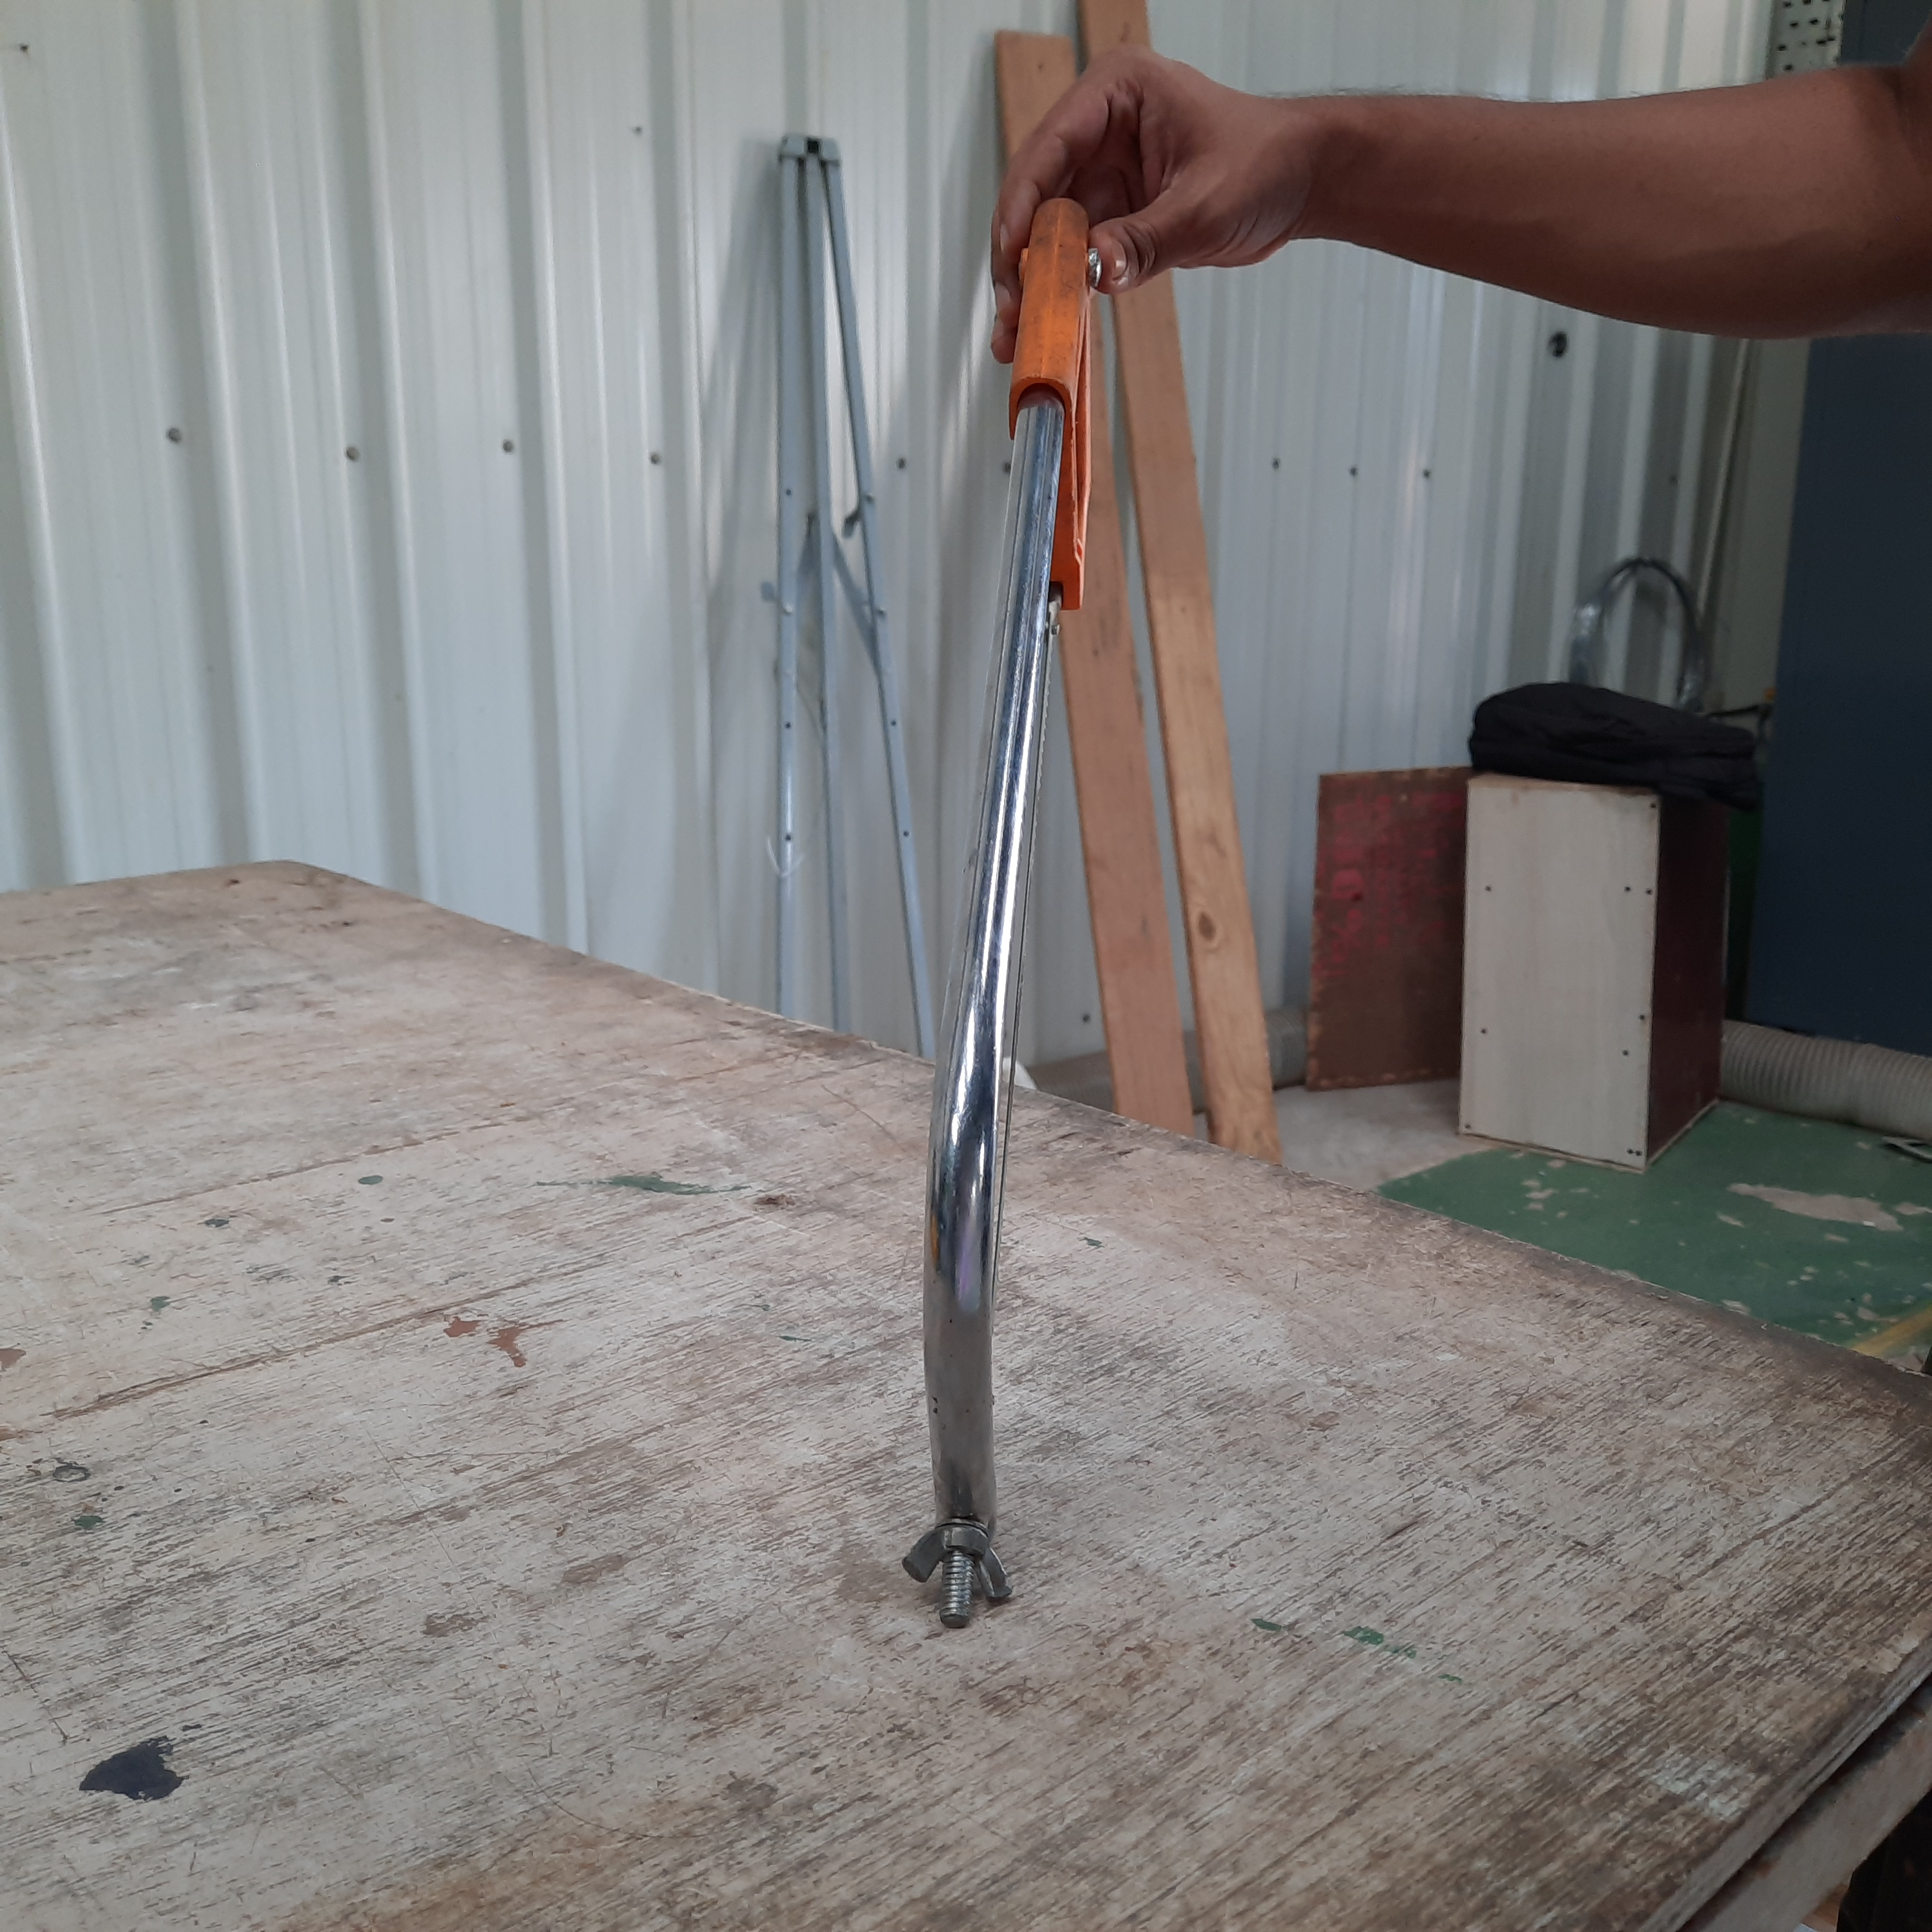Hexaframe: (865, 184, 1182, 1734)
